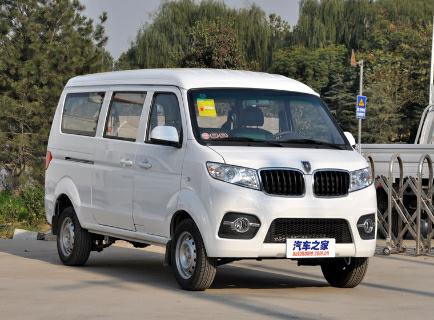金杯-小海狮X30: (37, 65, 383, 295)
